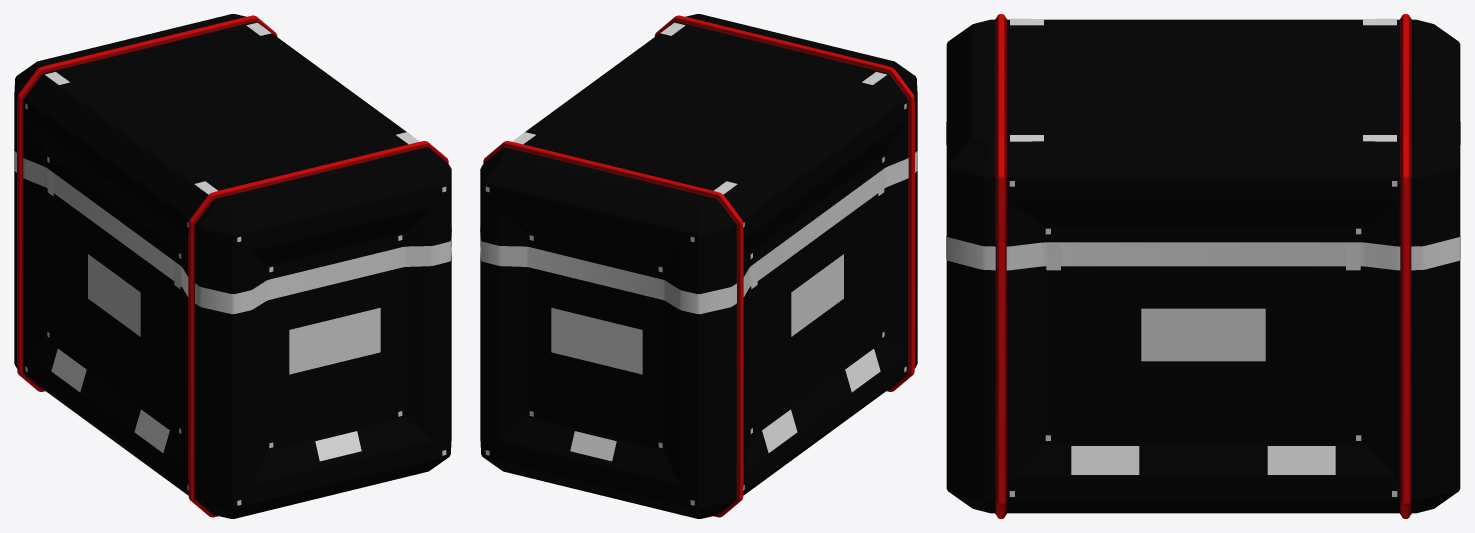
File: crate_container.glb
3 views of the same model, side by side, from view 1: azimuth 30°, elevation 25°; view 2: azimuth 150°, elevation 25°; view 3: azimuth 270°, elevation 25° (orthographic). The views are drawn at different scales.
Parts seen in each view (by area): view 1: box_container, box_container_decals; view 2: box_container, box_container_decals; view 3: box_container, box_container_decals.
Boxes of the visible parts, x1,y1,x2,y2 form: box_container: (14, 14, 451, 518); box_container_decals: (14, 22, 451, 505); box_container: (480, 14, 917, 518); box_container_decals: (480, 22, 917, 505); box_container: (946, 14, 1460, 518); box_container_decals: (946, 18, 1460, 496).
Size of the model in its own units: 0.7948 by 0.9503 by 1.16.
